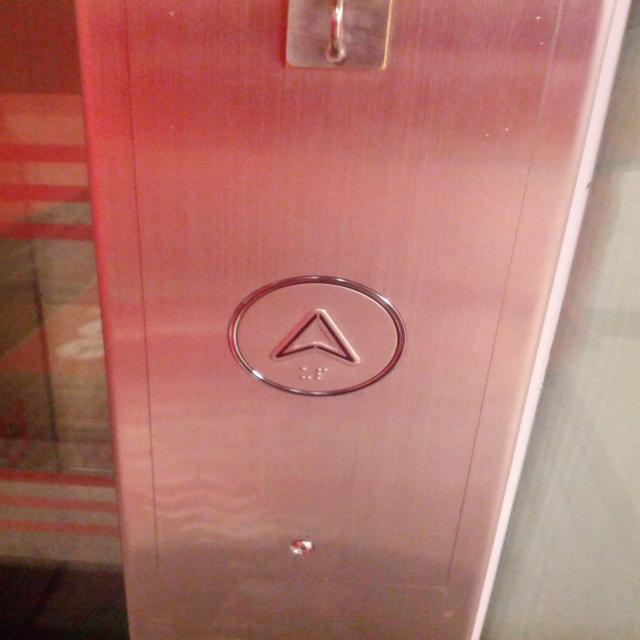up: (224, 272, 407, 402)
